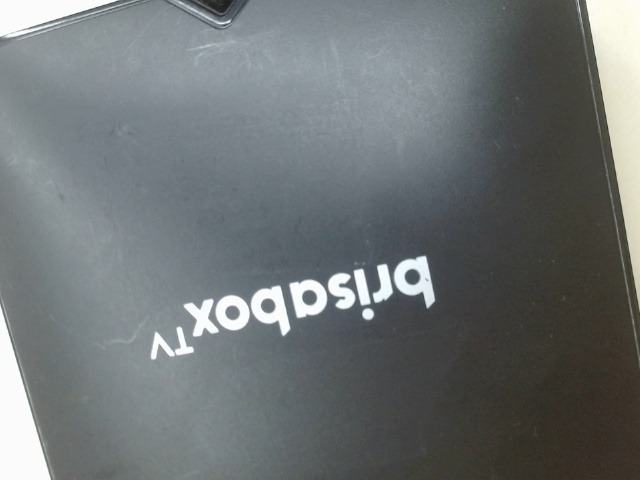AH_brisabox: (124, 250, 454, 367)
